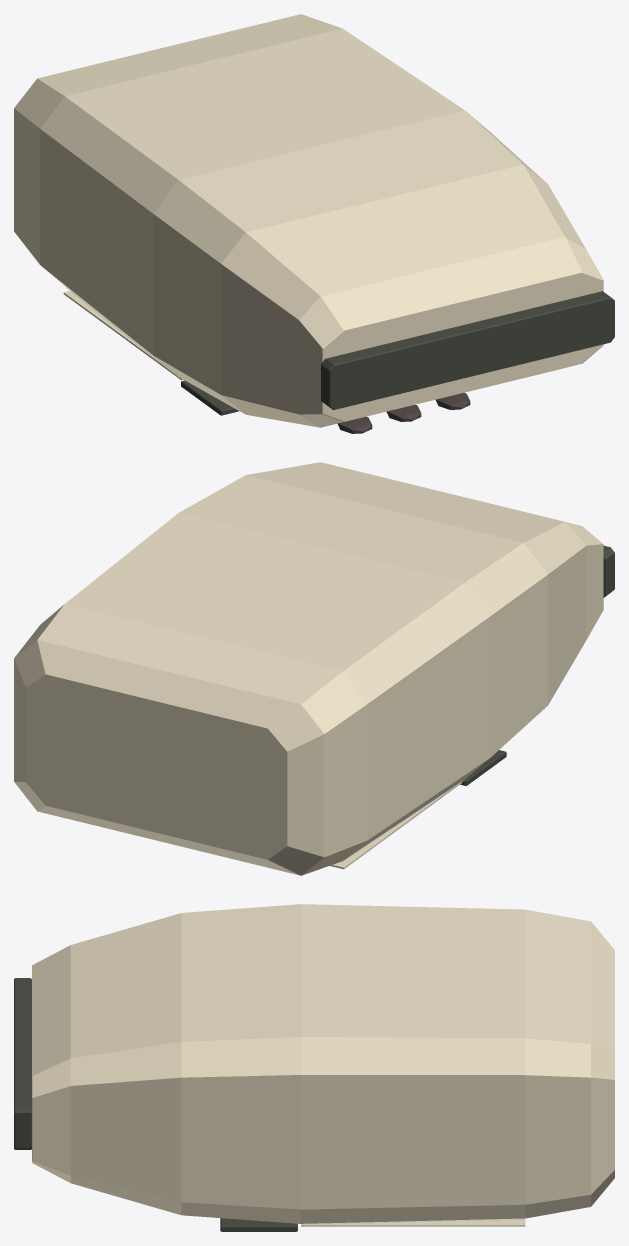
Rendered from black_beans.glb.
3 views of the same model, one above another, from view 1: azimuth 30°, elevation 25°; view 2: azimuth 150°, elevation 25°; view 3: azimuth 270°, elevation 25° (orthographic). The views are drawn at different scales.
Visible parts, largest first — view 1: black_beans; view 2: black_beans; view 3: black_beans.
Boxes of the visible parts, x1,y1,x2,y2 form: black_beans: [14, 14, 614, 433]; black_beans: [14, 462, 614, 875]; black_beans: [14, 904, 614, 1231].
Size of the model in its own units: 0.1236 by 0.0746 by 0.201.
